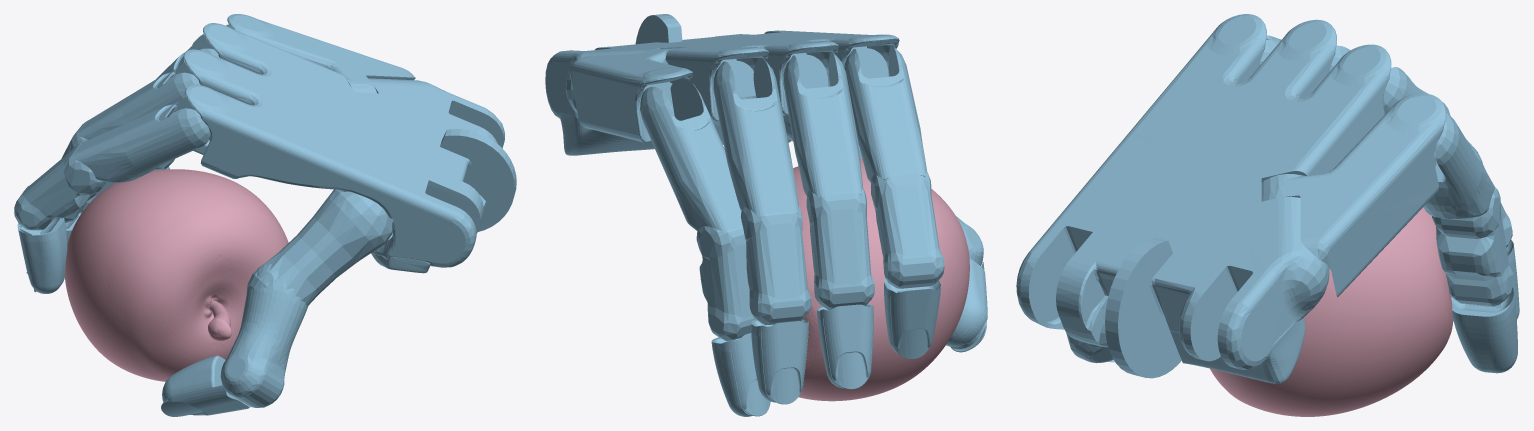
3 renders of one model, left to right at view 1: azimuth 30°, elevation 25°; view 2: azimuth 150°, elevation 25°; view 3: azimuth 270°, elevation 25°, orthographic. The views are drawn at different scales.
Parts seen in each view (by area): view 1: world; view 2: world; view 3: world.
Part boxes in pixels (x1=…): world: x1=14, y1=14, x2=516, y2=416; world: x1=545, y1=14, x2=987, y2=416; world: x1=1016, y1=14, x2=1519, y2=416.
Size of the model in its own units: 0.1687 by 0.1185 by 0.1396.
